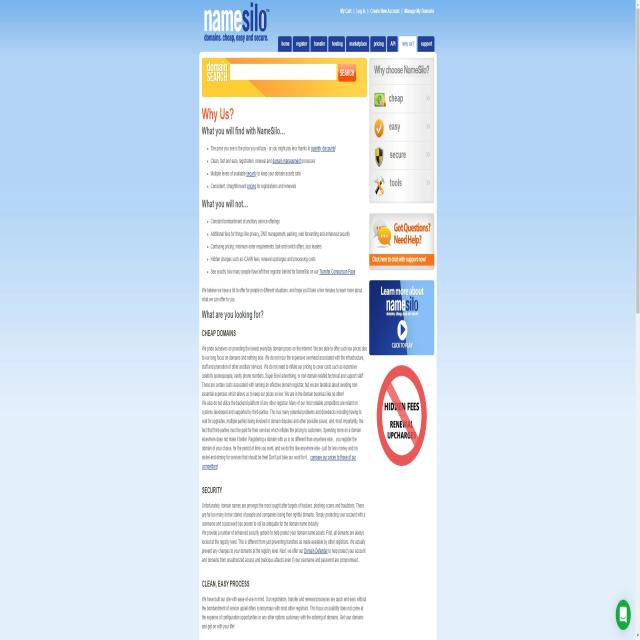menu-bar: (336, 4, 437, 22)
search: (226, 62, 356, 82)
tab-bar: (272, 30, 438, 56)
